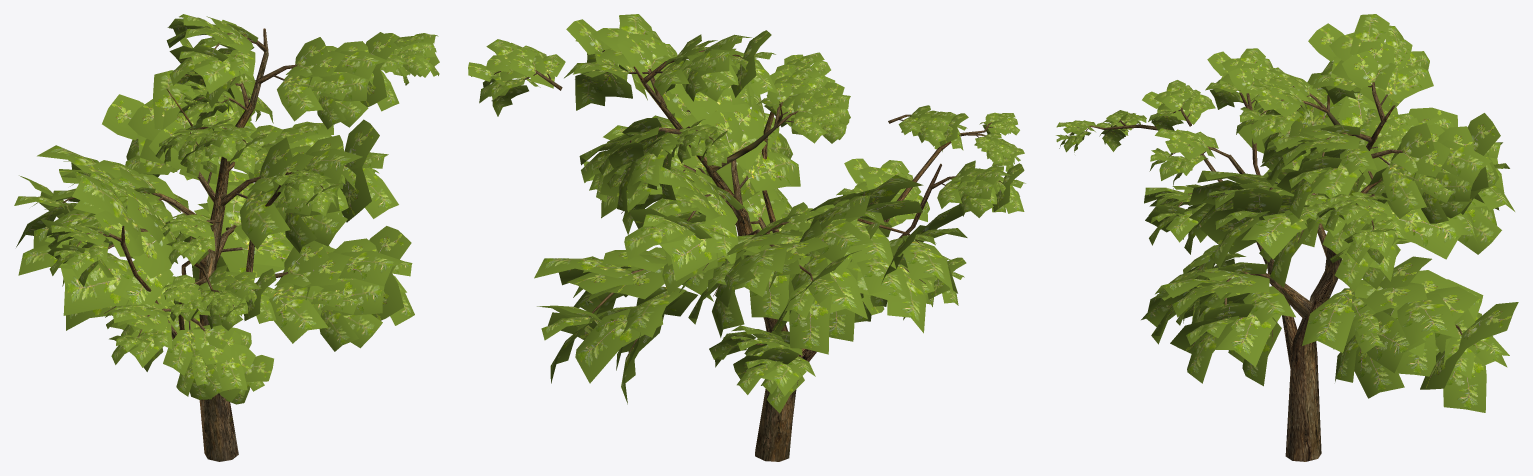
Rendered from tree2.gltf.
The picture shows the model from 3 angles, left to right: view 1: azimuth 30°, elevation 25°; view 2: azimuth 150°, elevation 25°; view 3: azimuth 270°, elevation 25°; orthographic projection. The views are drawn at different scales.
Visible parts, largest first — view 1: tree small joined; view 2: tree small joined; view 3: tree small joined.
Boxes of the visible parts, bbox=[...] form: tree small joined: bbox=[14, 14, 439, 461]; tree small joined: bbox=[468, 14, 1025, 461]; tree small joined: bbox=[1056, 14, 1518, 461].
Size of the model in its own units: 4.98 by 4.4 by 4.2.
Materials: 2 (2 with a texture image).
